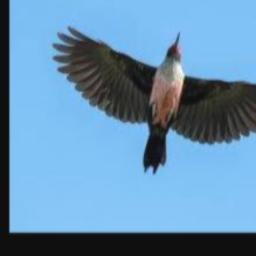Woodpecker: (53, 27, 256, 174)
